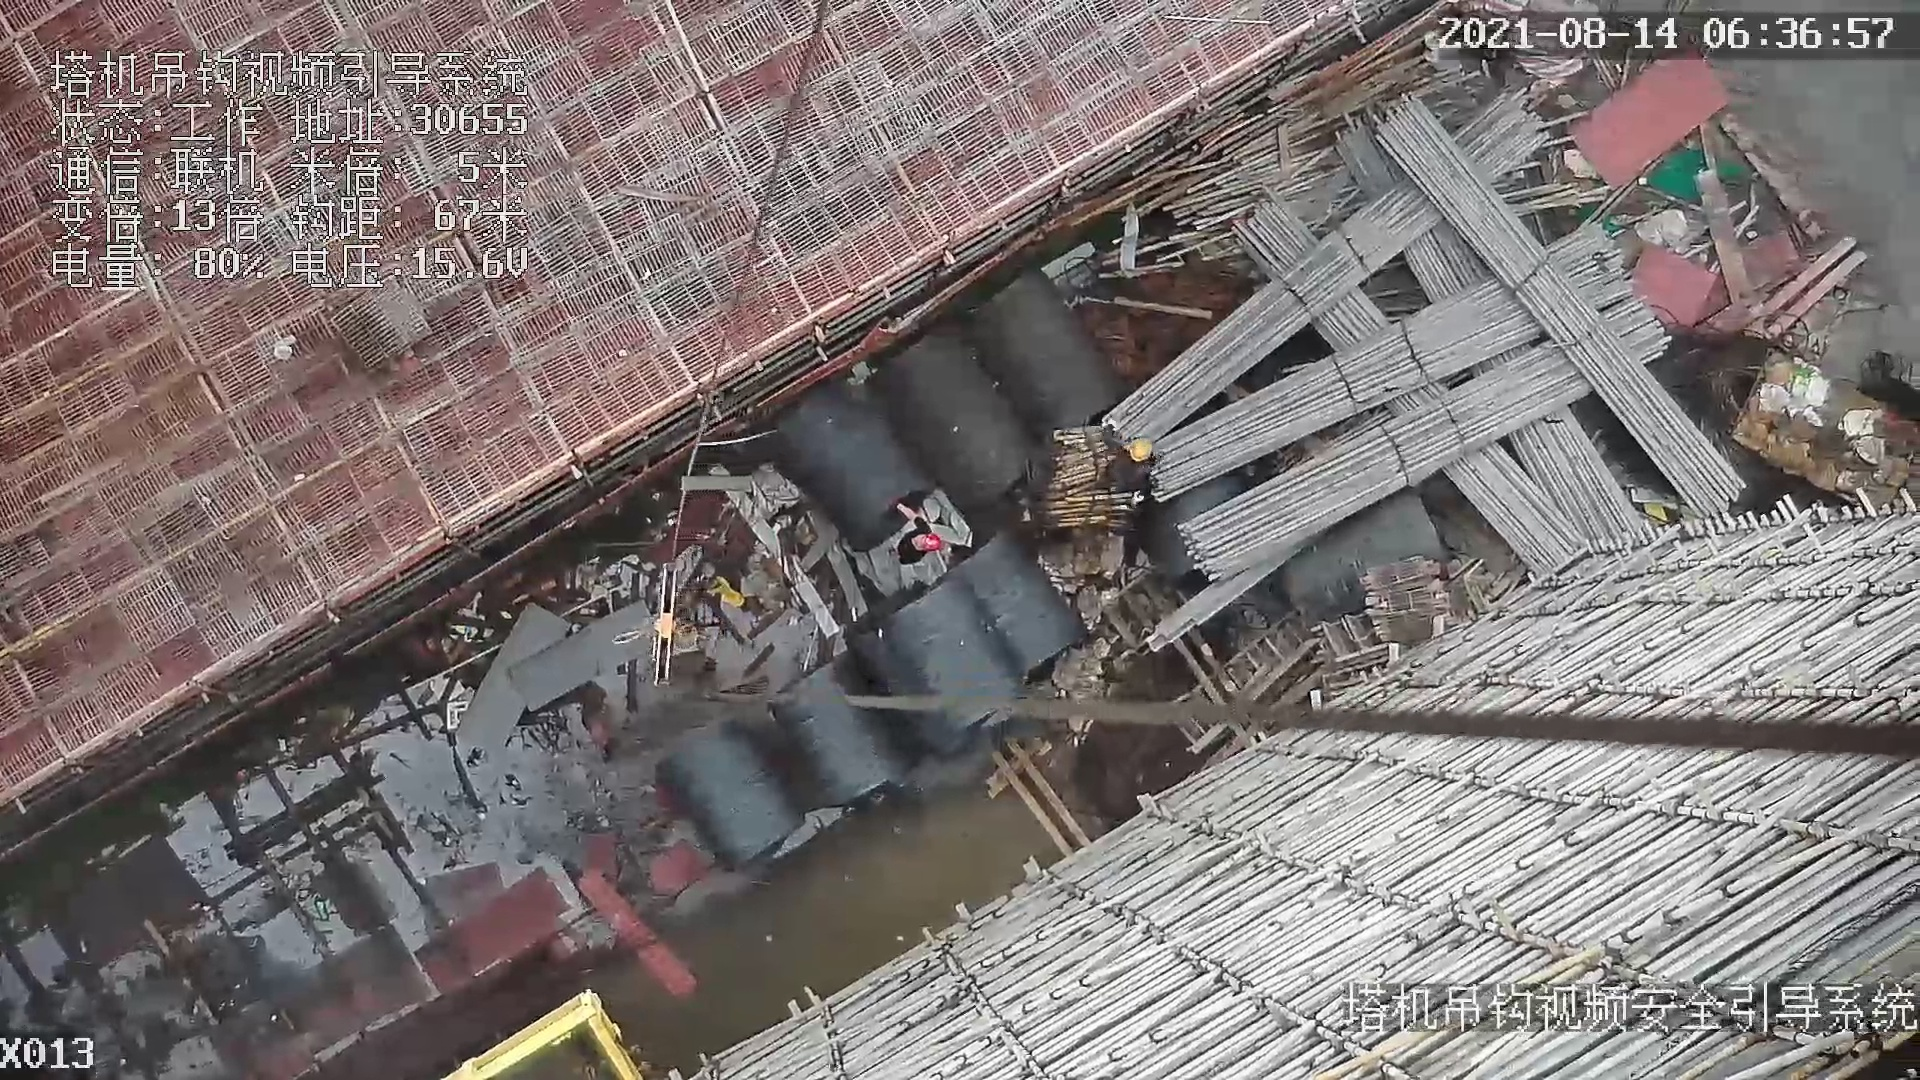helmet: (1130, 435, 1155, 461), (922, 530, 941, 555)
hook: (622, 568, 682, 690)
person: (1097, 437, 1159, 501), (886, 499, 947, 563)
scaffold: (1142, 92, 1746, 590), (1026, 413, 1155, 558)
